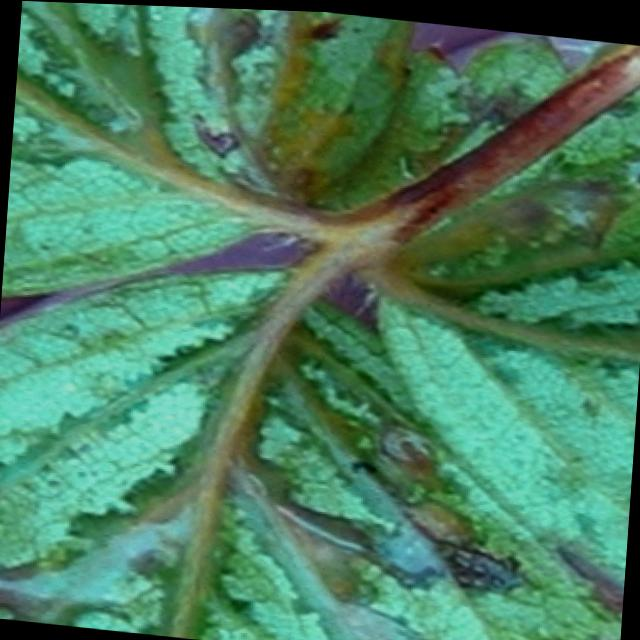Angular Leafspot: (0, 263, 622, 640), (314, 29, 640, 611), (1, 1, 415, 299)
